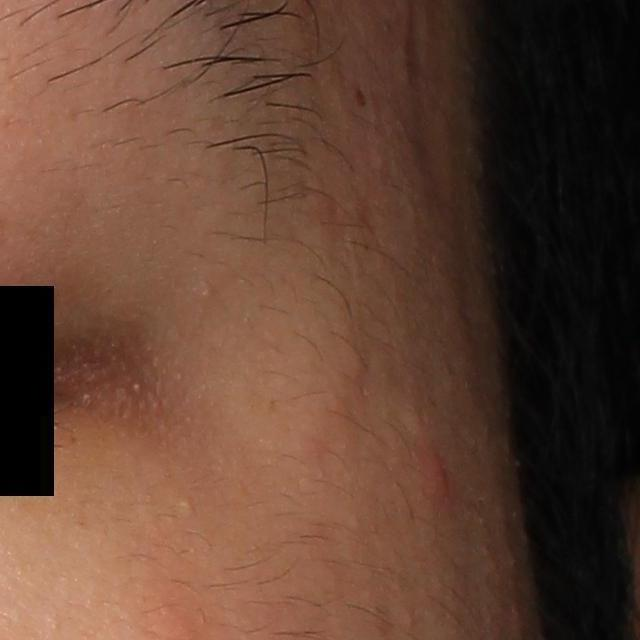other: (176, 497, 195, 514)
papule: (416, 438, 458, 510)
